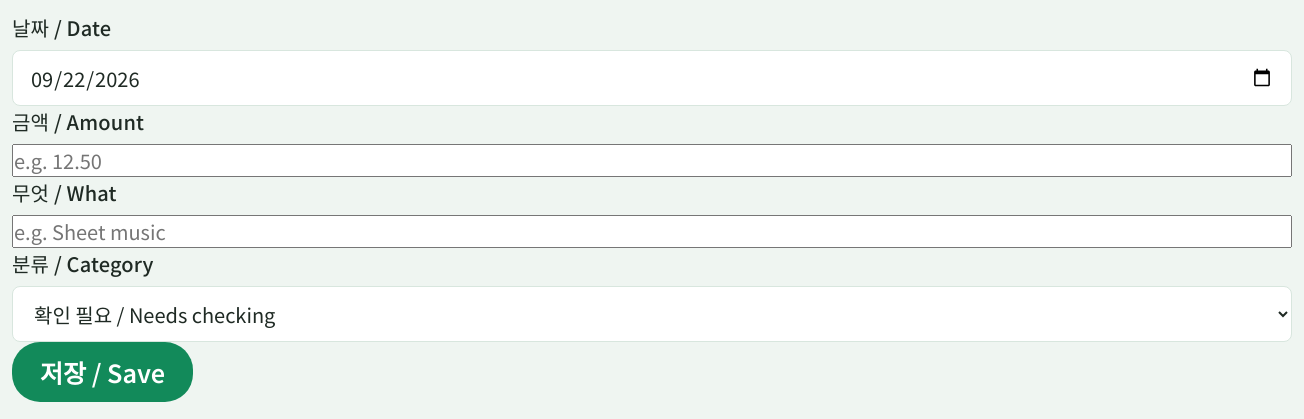
Scenario: BoughtSomethingForm › suggests a category from the description
The width and height of the screenshot is (1304, 419).
Type "Sheet music" into the field labelled "무엇 / What" at [652, 232], box [12,215,1292,248]
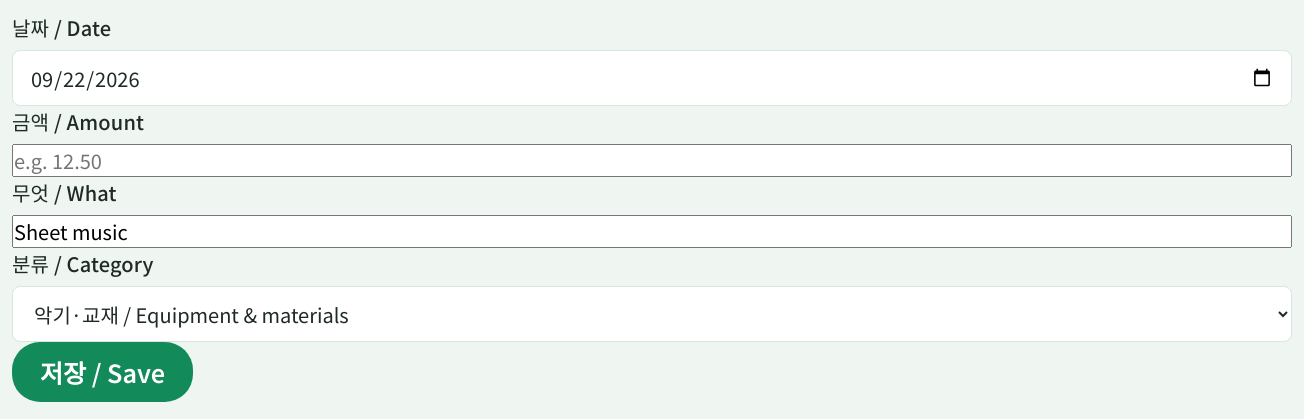
Check: the dropdown labelled "분류 / Category" shows "악기·교재 / Equipment & materials", box [12,286,1292,342]
